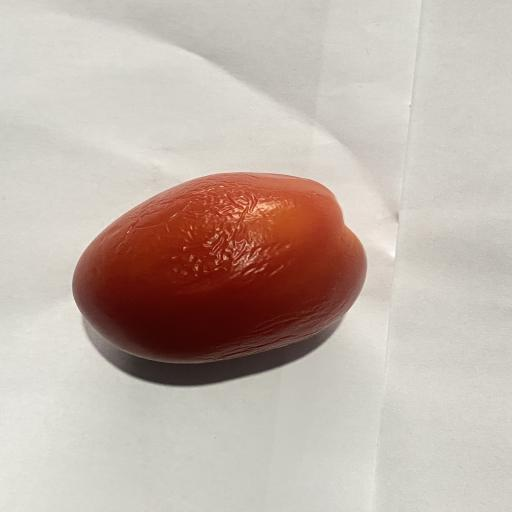spoiled: (73, 173, 366, 363)
